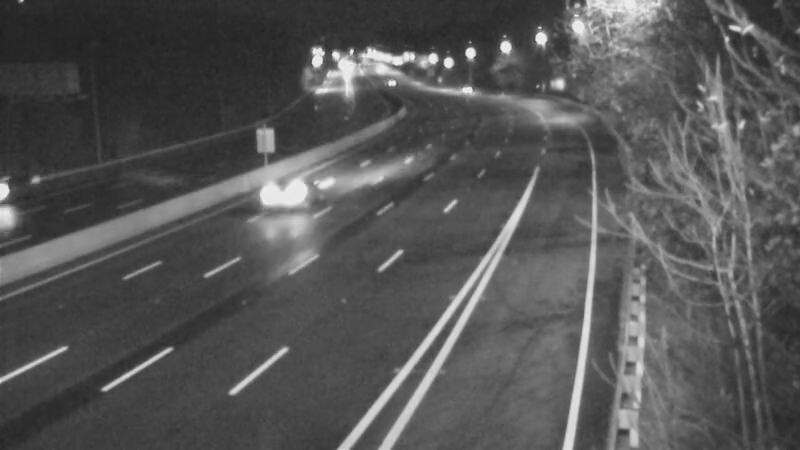vehicle: (256, 150, 336, 230), (1, 143, 66, 223), (367, 58, 417, 108), (438, 63, 488, 113)
